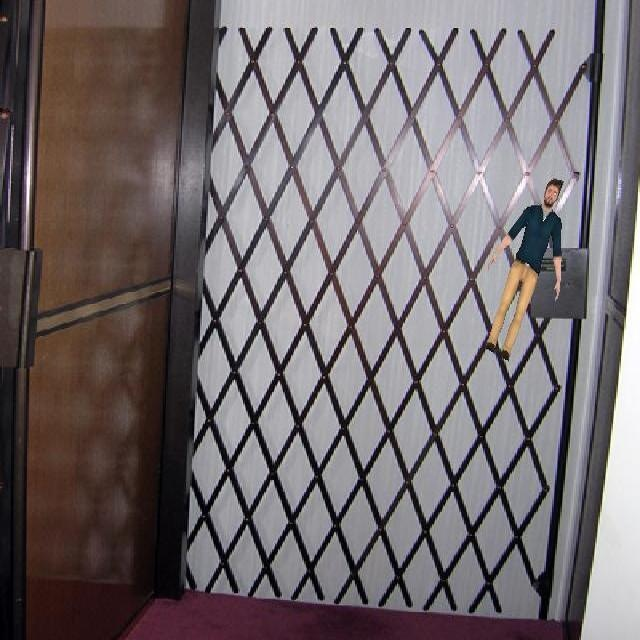obstacle: (483, 177, 568, 364)
